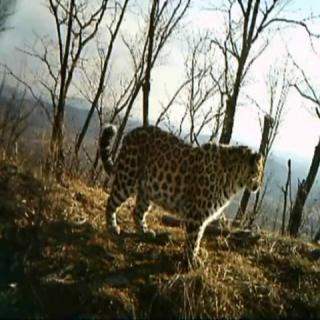Leopard: (94, 85, 276, 264)
